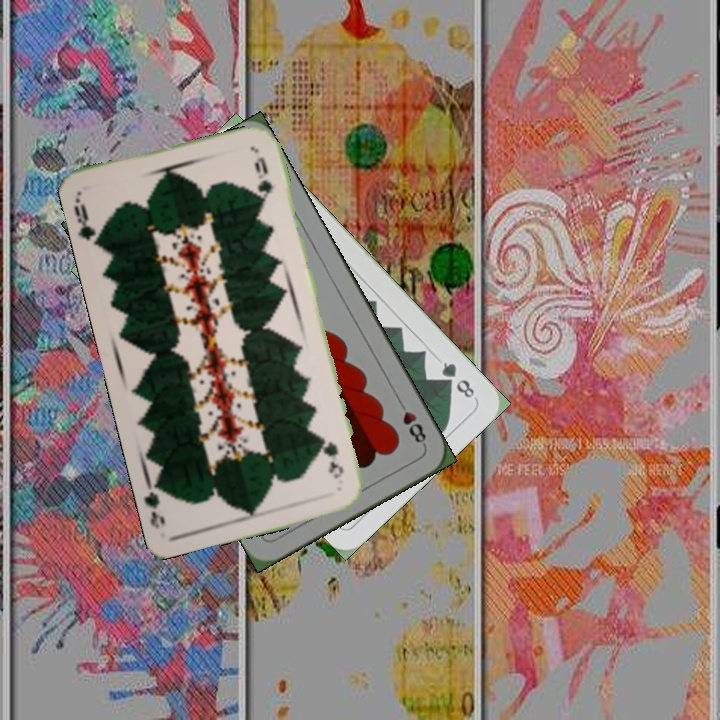G8: (437, 357, 478, 401)
G9: (70, 193, 105, 249), (318, 433, 346, 481)
H8: (393, 395, 429, 449)
